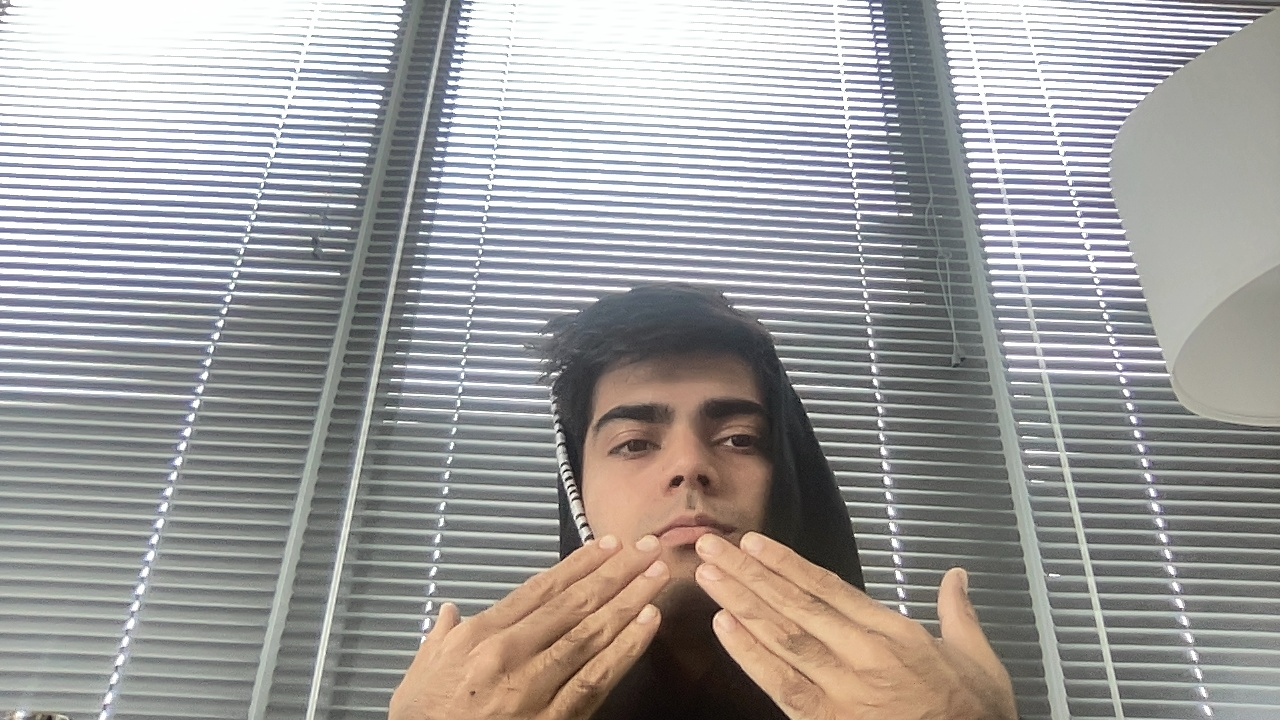thank you: (330, 487, 1070, 720)
